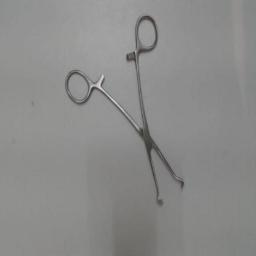Babcock Tissue Forceps: (63, 9, 187, 209)
